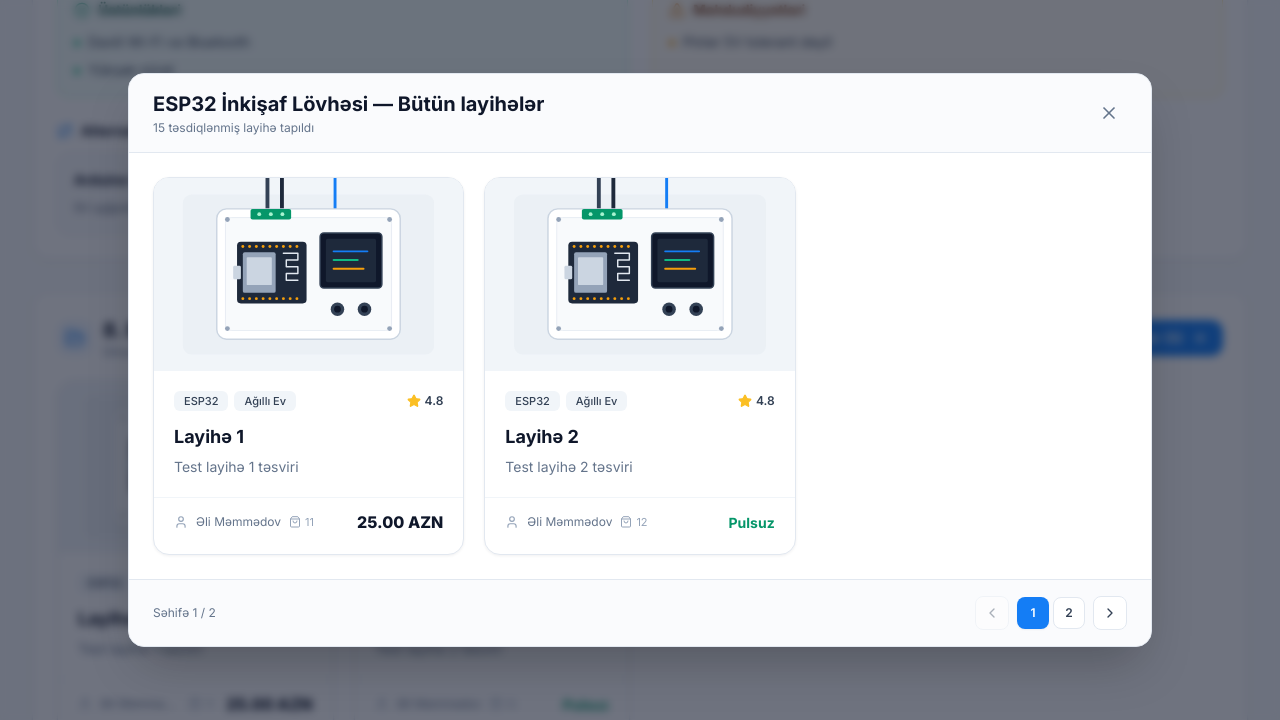
Test case: ComponentDetailPage Component › opens "Bütün layihələri gör" modal and paginates GET /components/:slug/projects
Earlier steps of the test are not shown.
(page scrolled)
Expected: the text "Səhifə 1 / 2" is shown, [153,605,216,621]
Click the button "2": (1069,613) [1053,597,1085,629]
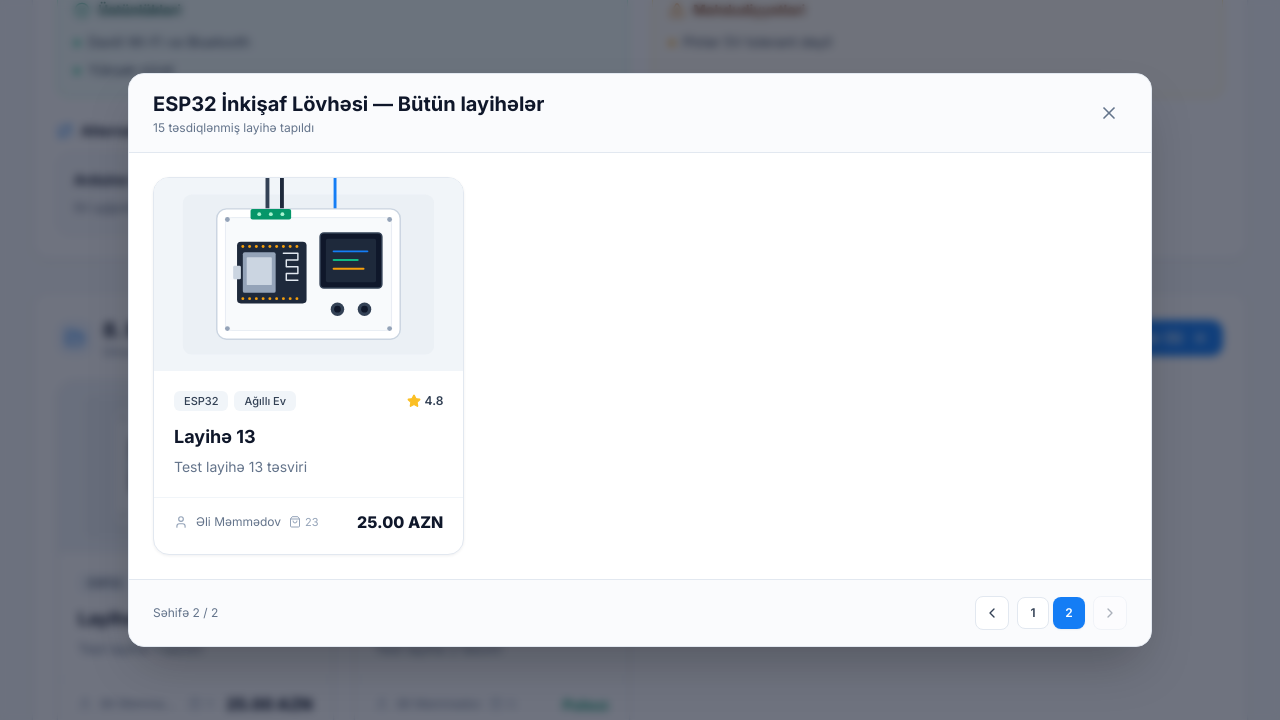
Result: the heading "Layihə 13" is shown at [174,426,256,447]
Result: the text "Səhifə 2 / 2" is shown at [153,605,218,621]
